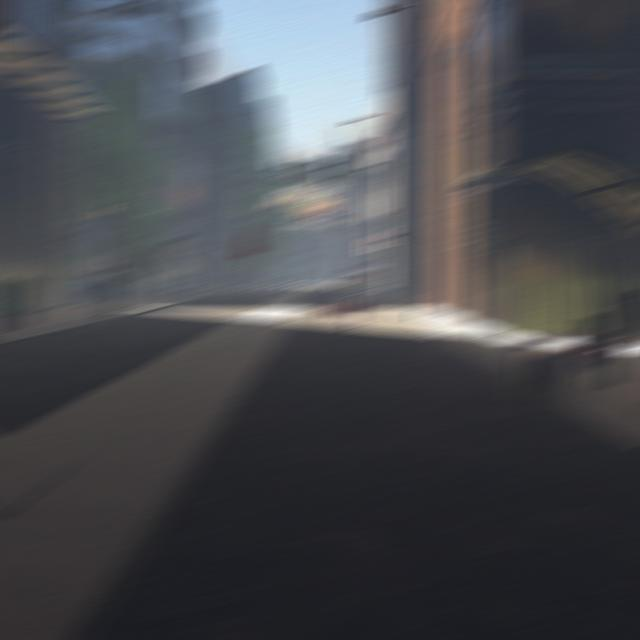speedLimit30: (466, 223, 492, 255)
